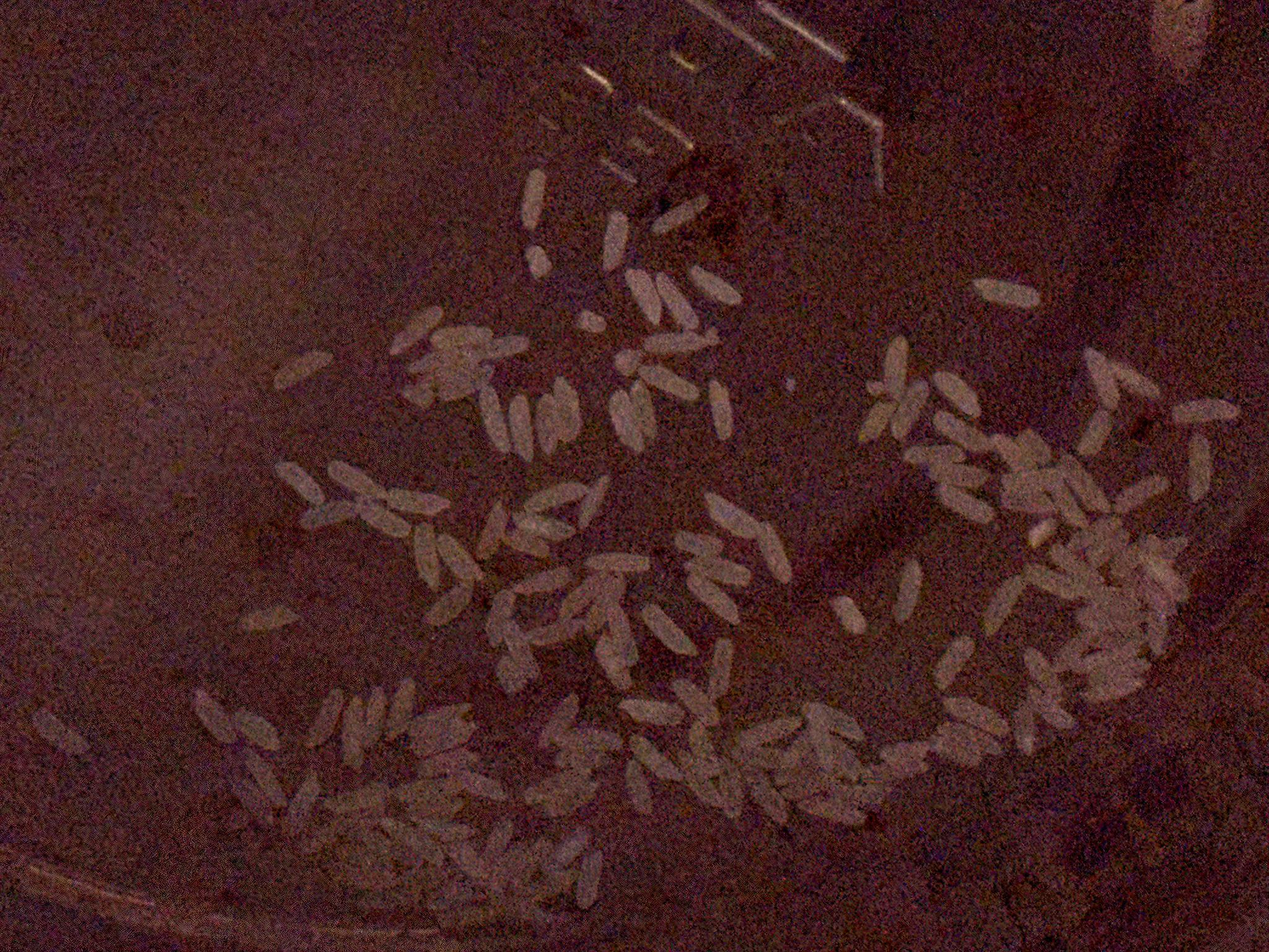Rice-th-y-nh: (381, 813, 445, 866), (641, 601, 698, 660), (931, 407, 995, 459), (971, 270, 1042, 316), (1057, 450, 1108, 513), (686, 570, 741, 627), (635, 100, 694, 153), (978, 572, 1026, 637), (804, 726, 860, 781), (703, 489, 761, 542), (556, 571, 615, 623), (389, 302, 444, 357), (241, 745, 288, 809), (326, 456, 387, 505), (651, 190, 710, 239), (1022, 558, 1082, 606), (405, 704, 469, 748), (654, 270, 700, 331), (1179, 433, 1220, 501), (191, 687, 236, 748), (583, 575, 628, 636), (423, 578, 475, 630), (931, 367, 982, 419), (753, 521, 795, 584), (1112, 472, 1172, 516), (408, 522, 447, 589), (945, 694, 1010, 734), (476, 384, 512, 455), (539, 827, 591, 876), (435, 531, 482, 585), (935, 483, 995, 525), (411, 719, 475, 758), (1022, 646, 1065, 704), (436, 361, 494, 404), (383, 676, 421, 741), (640, 362, 700, 403), (875, 335, 914, 398), (335, 701, 371, 769), (629, 736, 681, 783), (549, 376, 586, 442), (806, 702, 866, 742), (890, 379, 930, 438), (1083, 348, 1121, 410), (274, 460, 325, 506), (502, 619, 538, 684), (933, 636, 977, 689), (415, 744, 481, 779), (672, 677, 721, 724), (521, 864, 580, 903), (529, 394, 566, 456), (593, 635, 633, 692), (583, 547, 654, 579), (687, 265, 741, 307), (310, 685, 347, 746), (606, 392, 643, 453), (1049, 545, 1104, 586), (1024, 689, 1075, 733), (801, 793, 865, 828), (902, 438, 966, 473), (1171, 395, 1242, 426), (539, 694, 580, 747), (1143, 556, 1190, 602), (357, 686, 393, 746), (772, 736, 815, 786), (625, 267, 662, 325), (684, 555, 753, 586), (623, 694, 684, 729), (528, 478, 587, 514), (626, 379, 663, 436), (1083, 671, 1145, 705), (945, 719, 1003, 755), (482, 588, 517, 647), (1114, 360, 1163, 402), (283, 778, 319, 835), (507, 394, 537, 462), (514, 510, 574, 544), (298, 497, 358, 531), (358, 501, 410, 540), (523, 617, 586, 649), (387, 485, 448, 518), (1076, 408, 1116, 458), (599, 208, 630, 272), (782, 766, 837, 802), (333, 861, 399, 891), (447, 765, 503, 800), (705, 378, 736, 441), (892, 561, 923, 624), (707, 635, 737, 700), (606, 607, 639, 666), (513, 565, 572, 598), (1088, 584, 1142, 620), (447, 838, 490, 883), (1084, 527, 1131, 568), (925, 733, 980, 768), (644, 327, 706, 358), (431, 322, 495, 352), (525, 769, 585, 801), (573, 849, 605, 908), (542, 785, 599, 818), (1012, 462, 1069, 495), (510, 836, 558, 875), (1050, 482, 1088, 531), (577, 473, 612, 525), (476, 505, 509, 560), (1068, 516, 1121, 550), (929, 460, 989, 490), (519, 168, 548, 230), (408, 347, 470, 376), (992, 431, 1038, 470), (476, 333, 532, 365), (622, 759, 654, 814), (750, 778, 788, 824), (429, 356, 483, 388), (999, 484, 1053, 515), (238, 784, 276, 828), (857, 399, 895, 443), (405, 794, 462, 823), (479, 823, 512, 873), (429, 879, 477, 912), (1108, 540, 1147, 580), (831, 594, 868, 636), (244, 604, 297, 633), (829, 780, 885, 807), (1017, 426, 1054, 466), (492, 655, 528, 696), (673, 529, 722, 559), (395, 774, 441, 805), (507, 527, 550, 560), (554, 746, 595, 778), (1143, 533, 1189, 561), (1013, 702, 1038, 753), (878, 739, 927, 765), (313, 816, 355, 846), (241, 720, 280, 752), (687, 720, 718, 760), (1025, 515, 1060, 549), (32, 708, 66, 743), (523, 243, 554, 278), (612, 346, 645, 377), (574, 307, 607, 337), (401, 383, 435, 409)
